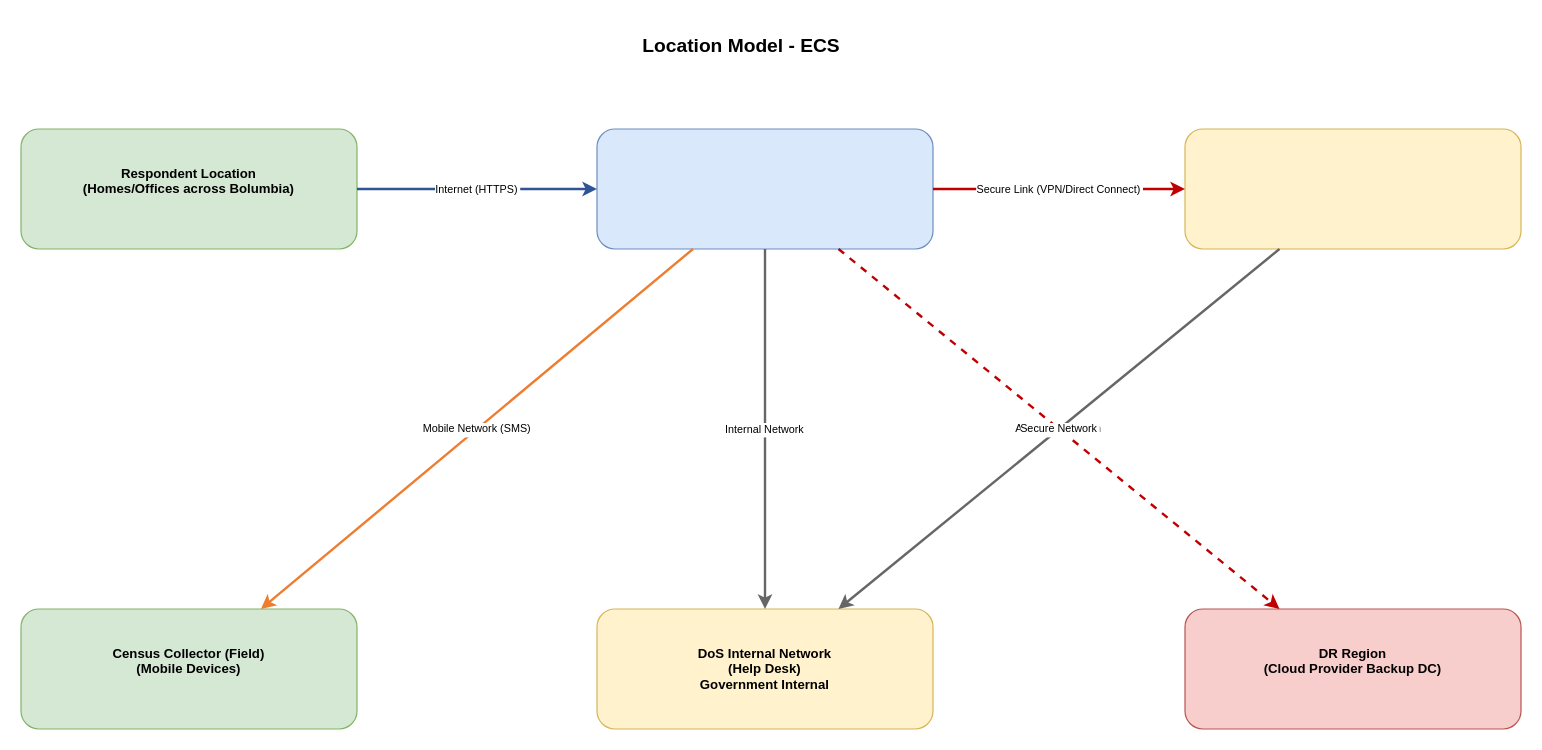
The diagram is 1542 pixels wide and 750 high, and some of its shapes have lost their labels. Each missing label, with the box of its shape:
Cloud Hosting Environment (Cloud Provider Data Center) Primary Region: (596, 128, 933, 249)
DoS Data Center (Government Premises) Secure / Restricted: (1184, 128, 1521, 249)
